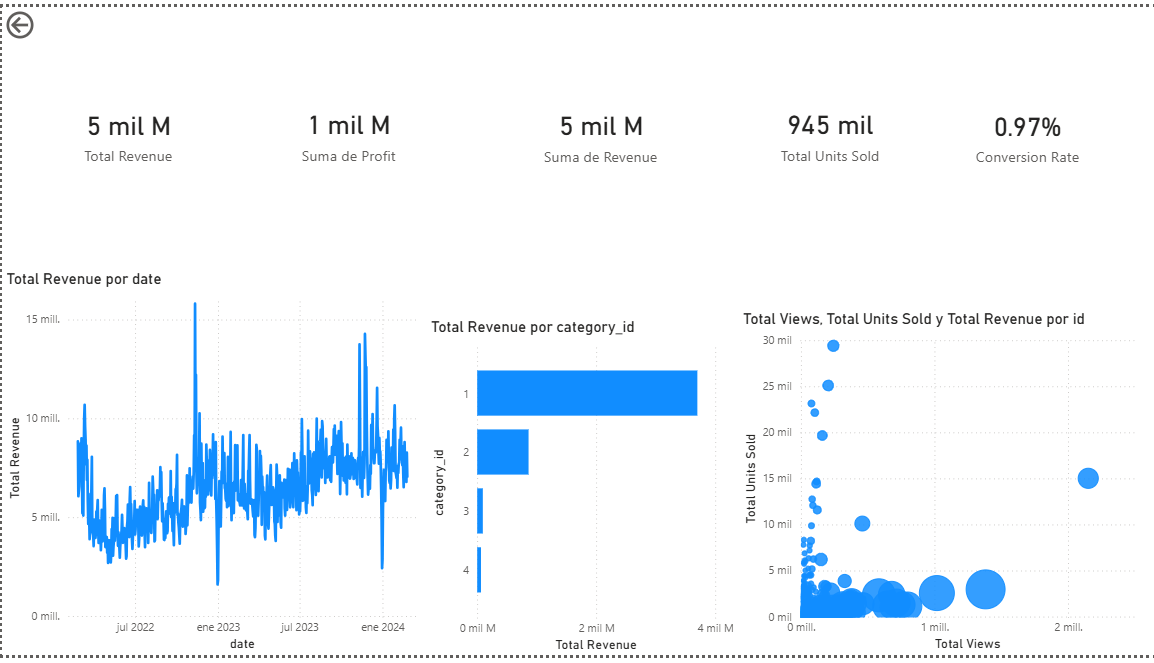

Layout of this report page (visuals, bound fields, positions):
{"tool":"powerbi","page":{"name":"Página 1","canvas":[1280,720],"ordinal":0},"visuals":[{"type":"card","fields":{"Values":["sales.Total Revenue"]},"box":[0,41.7,280,196.7],"z":0},{"type":"card","fields":{"Values":["Sum(sales.Revenue)"]},"box":[525.4,0,279.7,281.6],"z":1000},{"type":"card","fields":{"Values":["Sum(sales.Profit)"]},"box":[245.7,64.3,279.7,149.3],"z":2000},{"type":"card","fields":{"Values":["sales.Total Units Sold"]},"box":[780.5,64.3,279.7,149.3],"z":3000},{"type":"card","fields":{"Values":["sales.Conversion Rate"]},"box":[997.8,66.1,281.6,149.3],"z":4000},{"type":"lineChart","fields":{"Category":["sales.date"],"Y":["sales.Total Revenue"]},"box":[0,292.2,480,427.8],"z":5000},{"type":"scatterChart","fields":{"X":["sales.Total Views"],"Y":["sales.Total Units Sold"],"Size":["sales.Total Revenue"],"Category":["sales.id"]},"box":[817.8,336.7,461.1,383.3],"z":6000},{"type":"actionButton","box":[0,0,100,40],"z":7000},{"type":"clusteredBarChart","fields":{"Category":["sales.category_id"],"Y":["sales.Total Revenue"]},"box":[472.2,344.4,345.6,375.6],"z":8000}]}

Visuals, with their boxes in screenshot pixels (x1, y1, x2, y2), scaled from the page's 1280x720 canvas onto the 1154x663 screenshot:
card - sales.Total Revenue: [x1=0, y1=38, x2=252, y2=220]
card - Sum(sales.Revenue): [x1=474, y1=0, x2=726, y2=259]
card - Sum(sales.Profit): [x1=222, y1=59, x2=474, y2=197]
card - sales.Total Units Sold: [x1=704, y1=59, x2=956, y2=197]
card - sales.Conversion Rate: [x1=900, y1=61, x2=1153, y2=198]
lineChart - sales.date x sales.Total Revenue: [x1=0, y1=269, x2=433, y2=662]
scatterChart - sales.Total Views x sales.Total Units Sold: [x1=737, y1=310, x2=1153, y2=662]
actionButton: [x1=0, y1=0, x2=90, y2=37]
clusteredBarChart - sales.category_id x sales.Total Revenue: [x1=426, y1=317, x2=737, y2=662]
